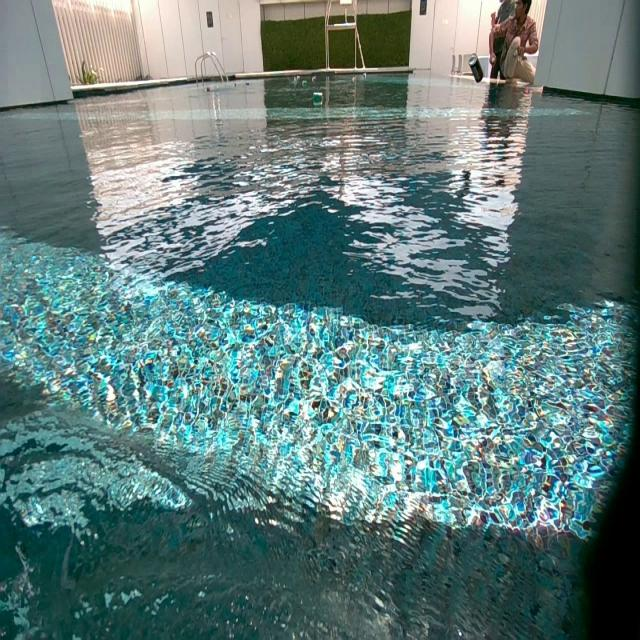Cans: (312, 93, 324, 105), (205, 88, 213, 96), (294, 75, 300, 83), (312, 74, 318, 82), (303, 80, 310, 86), (524, 92, 530, 98), (243, 82, 248, 88), (234, 82, 238, 89), (362, 74, 367, 79)
